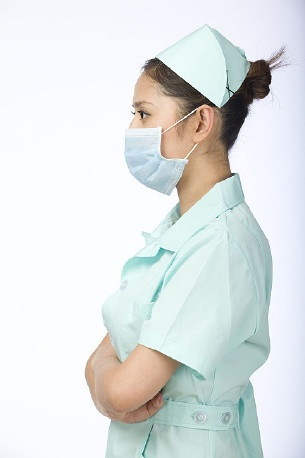Mask: (120, 92, 220, 193)
